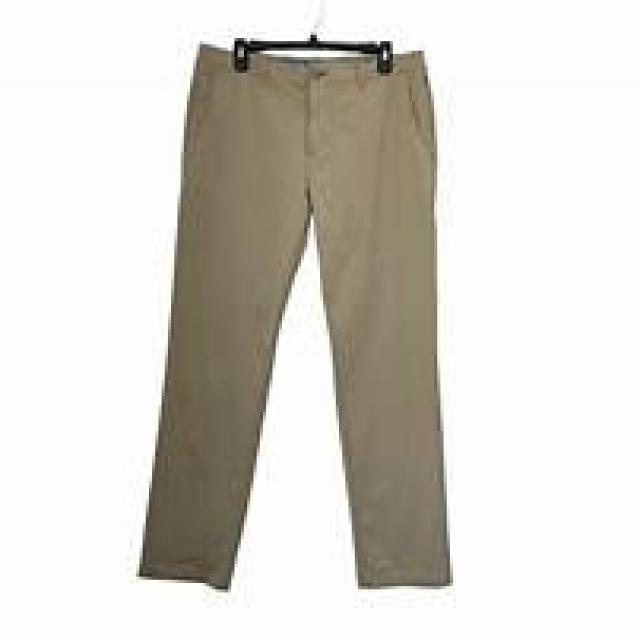long-pants: (139, 41, 454, 594)
